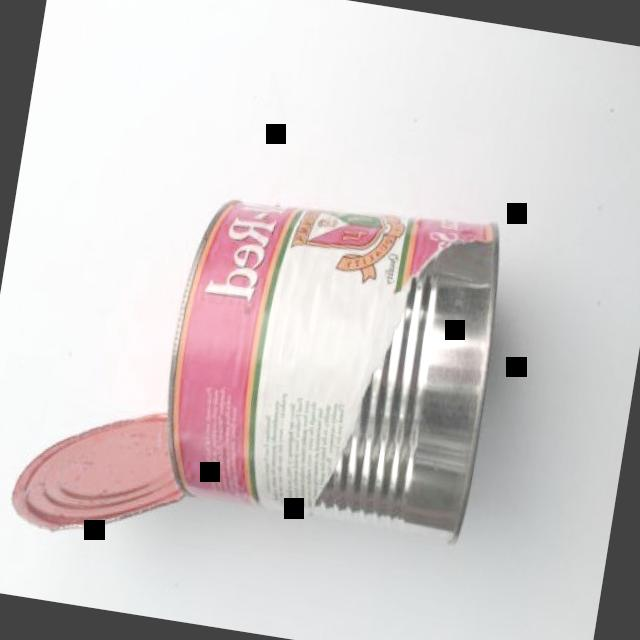can: (0, 148, 518, 601)
